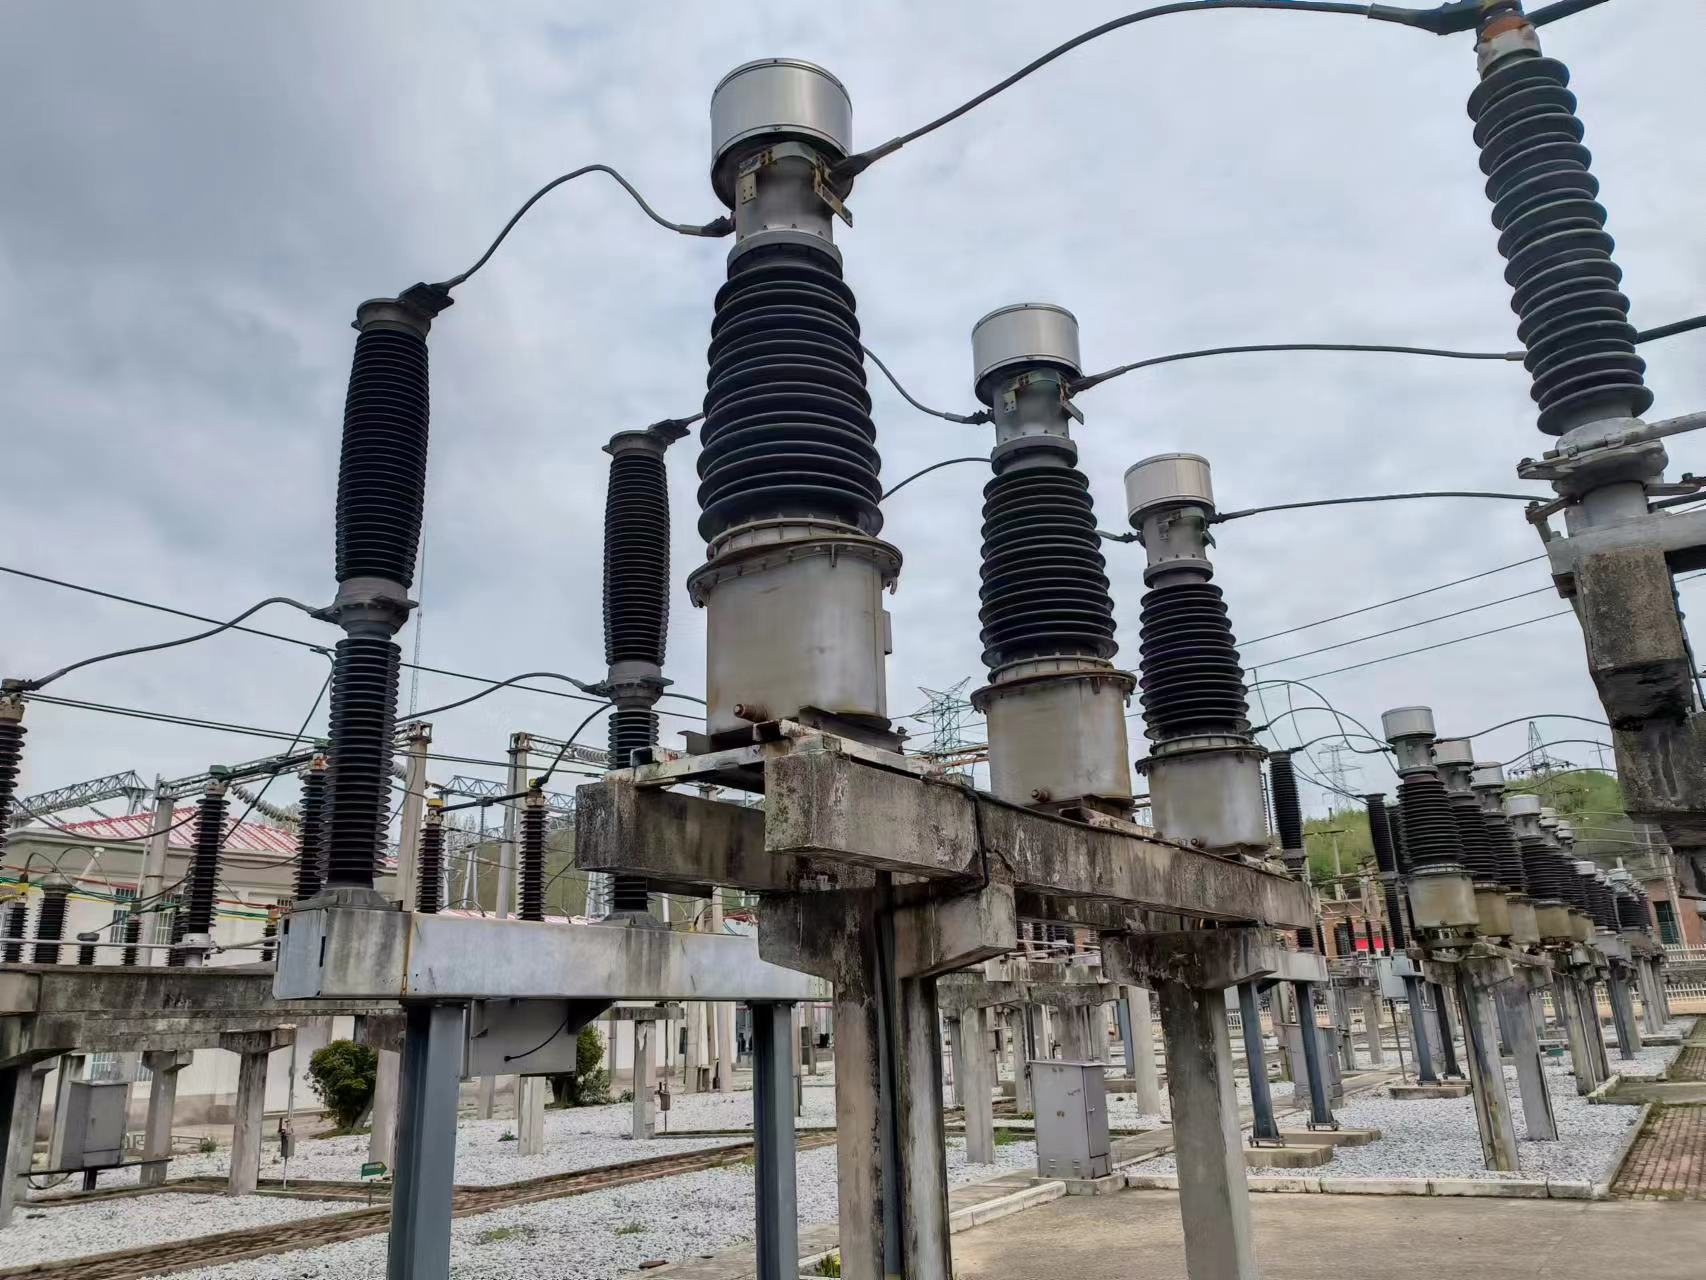Current transformer: (686, 56, 903, 748), (967, 297, 1137, 815), (1123, 449, 1276, 854)
